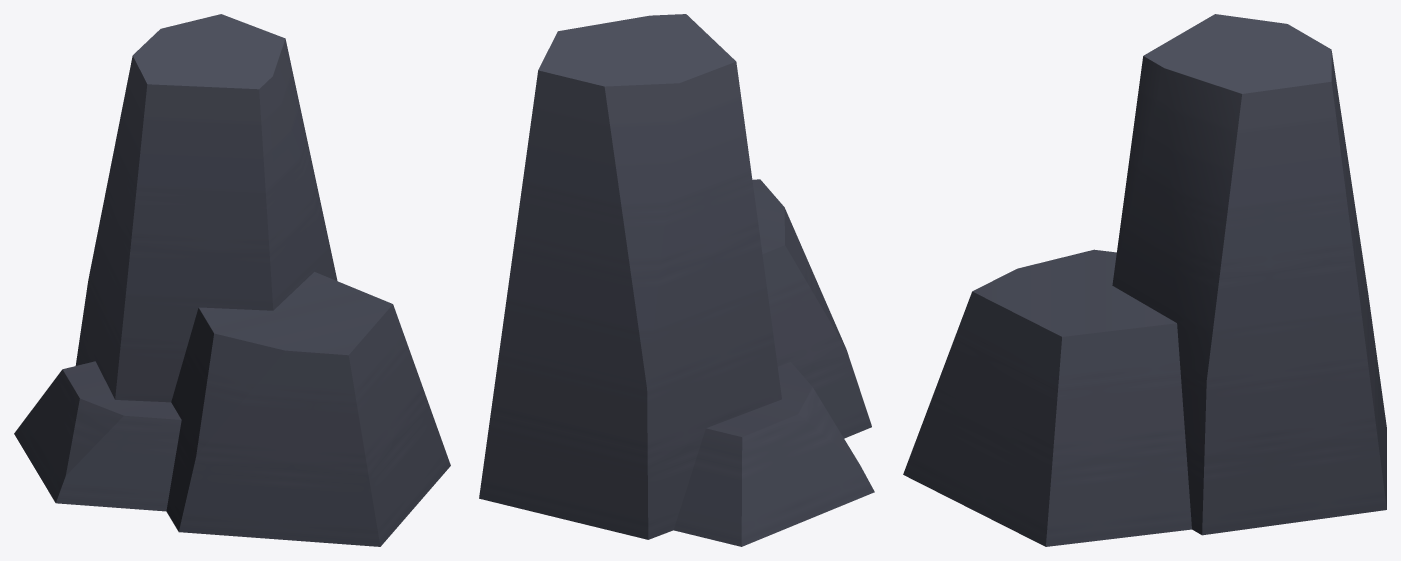
Rendered from rockSmall.fbx.
The picture shows the model from 3 angles, left to right: view 1: azimuth 30°, elevation 25°; view 2: azimuth 150°, elevation 25°; view 3: azimuth 270°, elevation 25°; orthographic projection. The views are drawn at different scales.
Parts seen in each view (by area): view 1: rockSmall; view 2: rockSmall; view 3: rockSmall.
Boxes of the visible parts, x1,y1,x2,y2 form: rockSmall: [14, 14, 450, 546]; rockSmall: [479, 14, 874, 546]; rockSmall: [903, 14, 1386, 546].
Size of the model in its own units: 0.9419 by 1.08 by 1.02.
